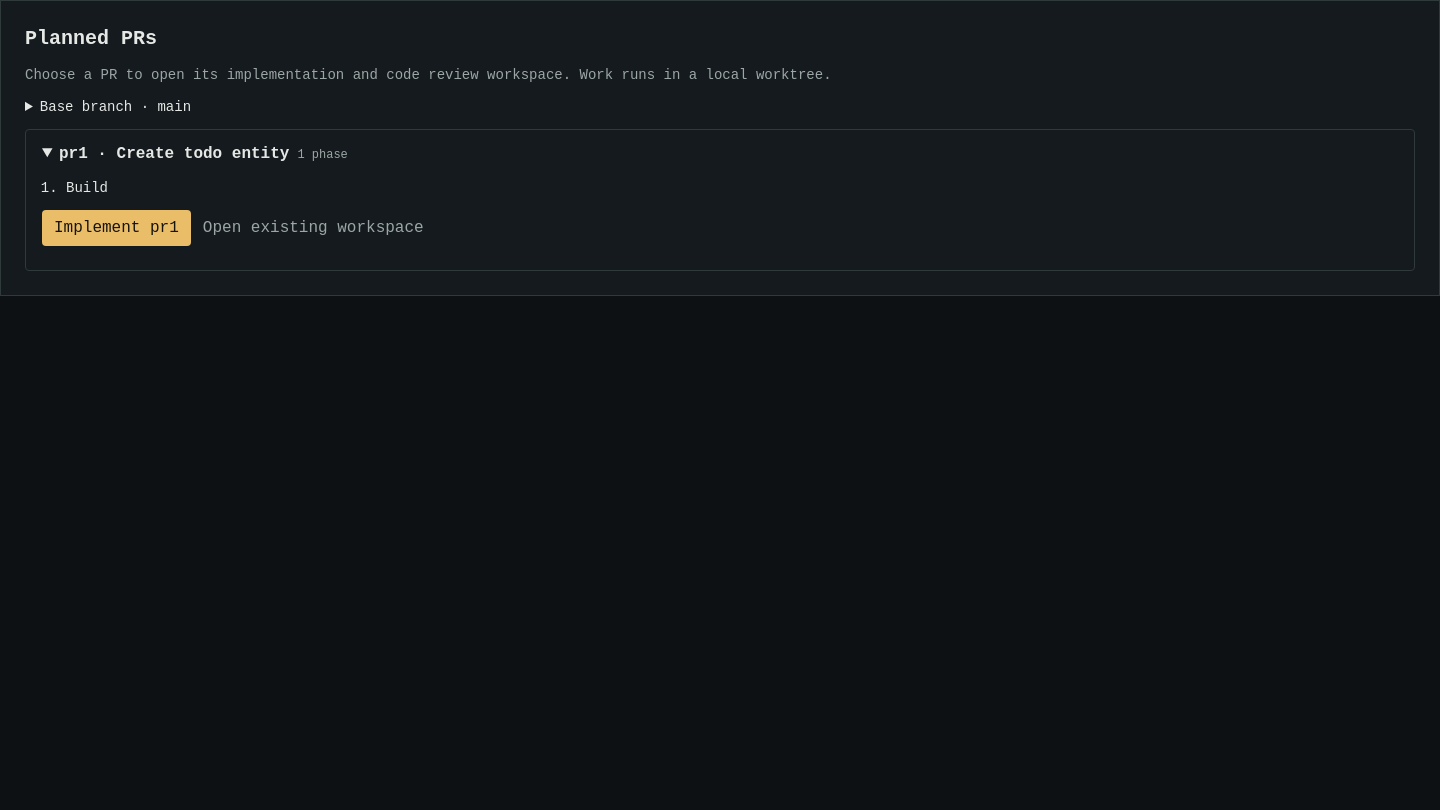
Test: shows server field errors and supports explicit no-ticket selection
Later steps or results of the test are not shown.
Click the button "Implement pr1". click: x=116, y=228
box: 42,210 -> 191,246
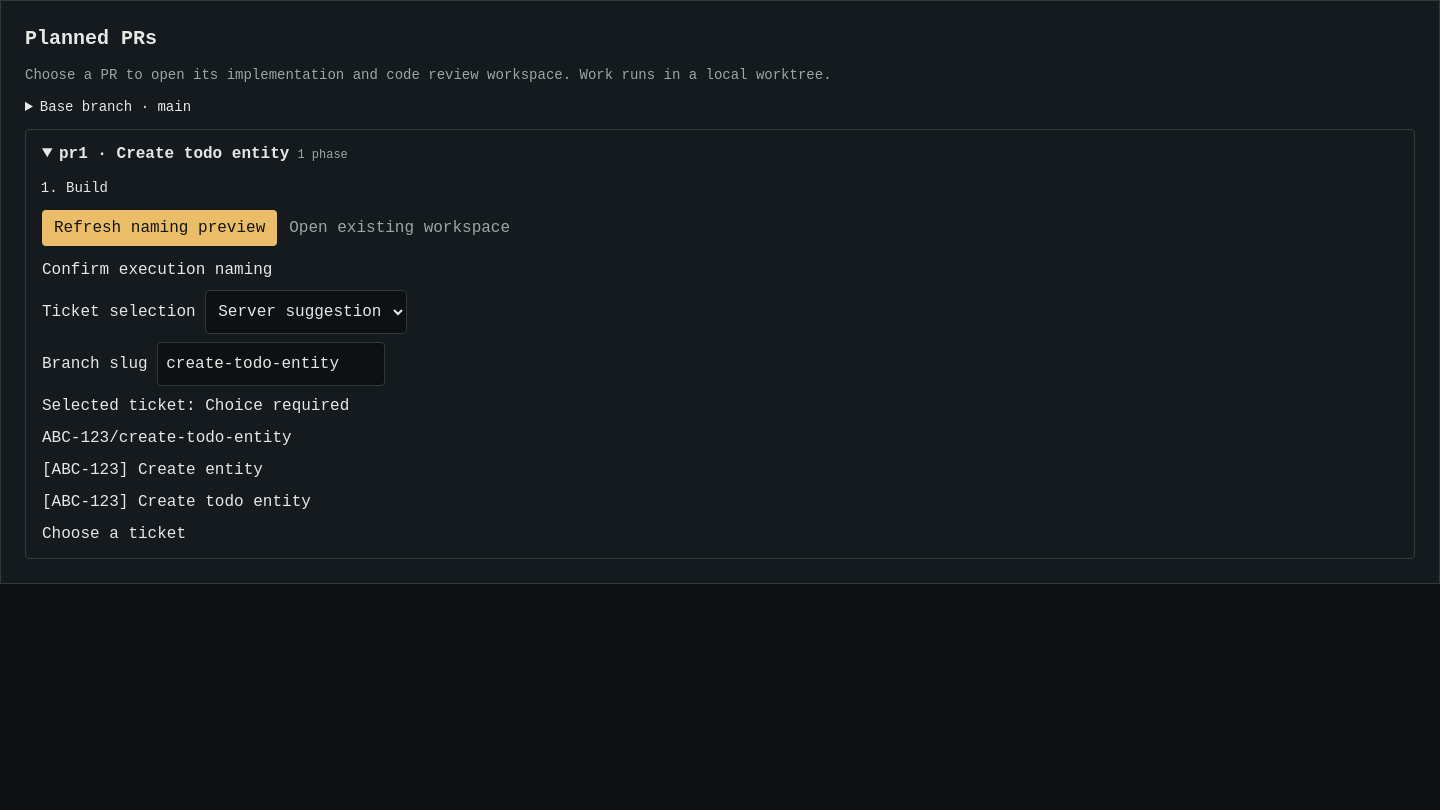
Result: the text "Choose a ticket" is shown at 42,525 -> 186,543
